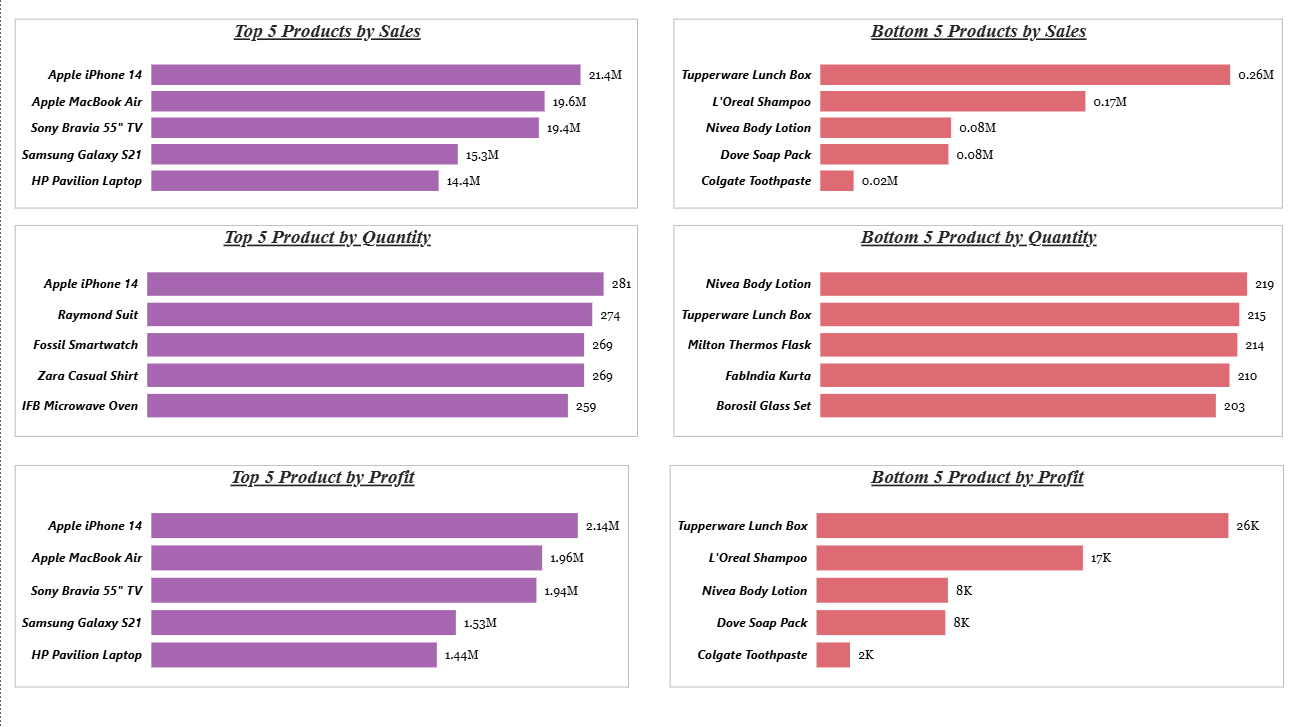

Layout of this report page (visuals, bound fields, positions):
{"tool":"powerbi","page":{"name":"Top Bottom 5 Analysis","canvas":[1280,720],"ordinal":1},"visuals":[{"type":"barChart","title":"Top 5 Products by Sales  ","fields":{"Category":["Dim Product.Product Name"],"Y":["Sum(Fact Table.Net Sales)"]},"box":[13.7,22.9,609.7,185.9],"z":0},{"type":"barChart","title":"Bottom 5 Products by Sales  ","fields":{"Category":["Dim Product.Product Name"],"Y":["Sum(Fact Table.Net Sales)"]},"box":[658.4,22.9,596,185.9],"z":1000},{"type":"barChart","title":"Top 5 Product by Quantity","fields":{"Category":["Dim Product.Product Name"],"Y":["Sum(Fact Table.Units Sold)"]},"box":[13.7,225.6,609.7,207.3],"z":2000},{"type":"barChart","title":"Bottom 5 Product by Quantity","fields":{"Category":["Dim Product.Product Name"],"Y":["Sum(Fact Table.Units Sold)"]},"box":[658.4,225.6,596,207.3],"z":3000},{"type":"barChart","title":"Top 5 Product by Profit","fields":{"Category":["Dim Product.Product Name"],"Y":["Sum(Fact Table.Profit)"]},"box":[13.7,460.3,600.5,218],"z":4000},{"type":"barChart","title":"Bottom 5 Product by Profit","fields":{"Category":["Dim Product.Product Name"],"Y":["Sum(Fact Table.Profit)"]},"box":[653.9,460.3,600.5,218],"z":5000}]}

Visuals, with their boxes in screenshot pixels (x1, y1, x2, y2), scaled from the page's 1280x720 canvas onto the 1307x727 screenshot:
"Top 5 Products by Sales  " barChart: {"left": 14, "top": 23, "right": 637, "bottom": 211}
"Bottom 5 Products by Sales  " barChart: {"left": 672, "top": 23, "right": 1281, "bottom": 211}
"Top 5 Product by Quantity" barChart: {"left": 14, "top": 228, "right": 637, "bottom": 437}
"Bottom 5 Product by Quantity" barChart: {"left": 672, "top": 228, "right": 1281, "bottom": 437}
"Top 5 Product by Profit" barChart: {"left": 14, "top": 465, "right": 627, "bottom": 685}
"Bottom 5 Product by Profit" barChart: {"left": 668, "top": 465, "right": 1281, "bottom": 685}
